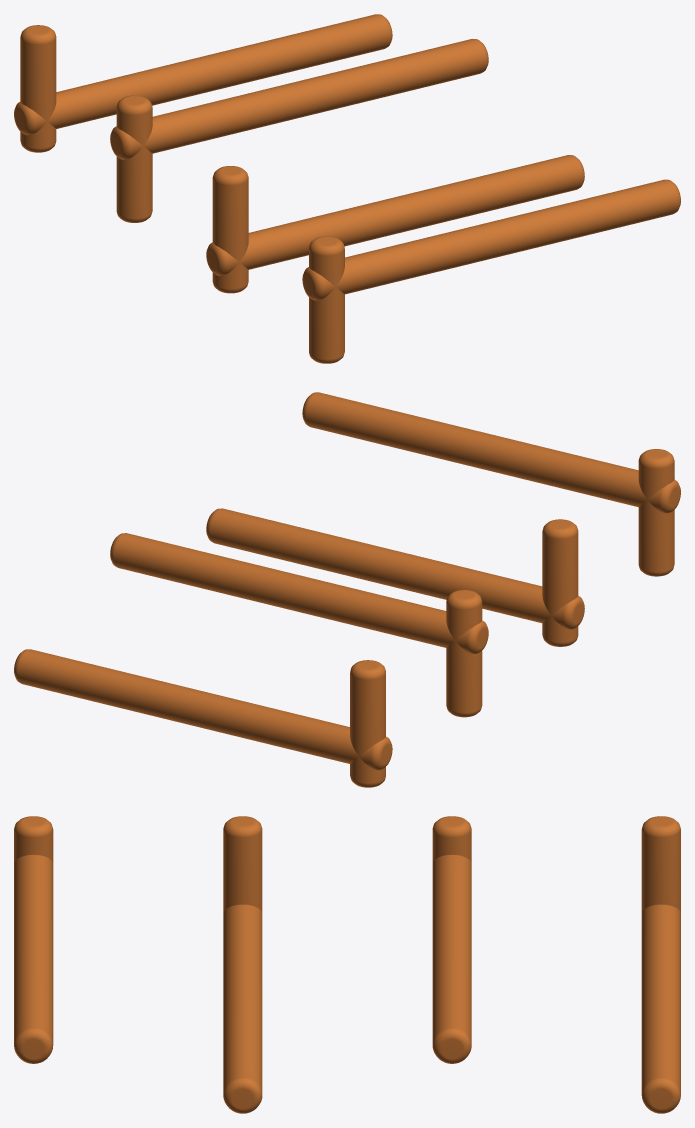
3 renders of one model, top to bottom at view 1: azimuth 30°, elevation 25°; view 2: azimuth 150°, elevation 25°; view 3: azimuth 270°, elevation 25°, orthographic. The views are drawn at different scales.
Visible parts, largest first — view 1: part_062; view 2: part_062; view 3: part_062.
Boxes of the visible parts, <box> form: part_062: <box>14,14,680,363</box>; part_062: <box>14,392,680,787</box>; part_062: <box>14,816,680,1113</box>.
Bounding box in the file's own units: 0.44 × 0.135 × 0.6375.
